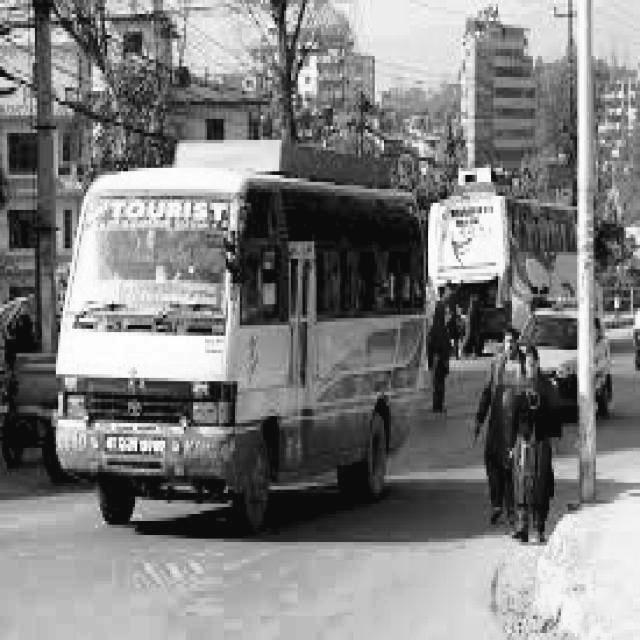Bus: (25, 117, 426, 533), (429, 161, 593, 317)
